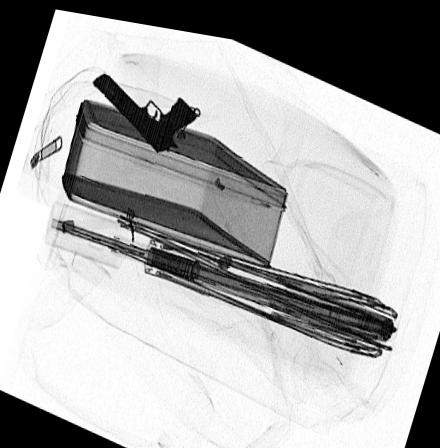Gun: (91, 68, 200, 147)
